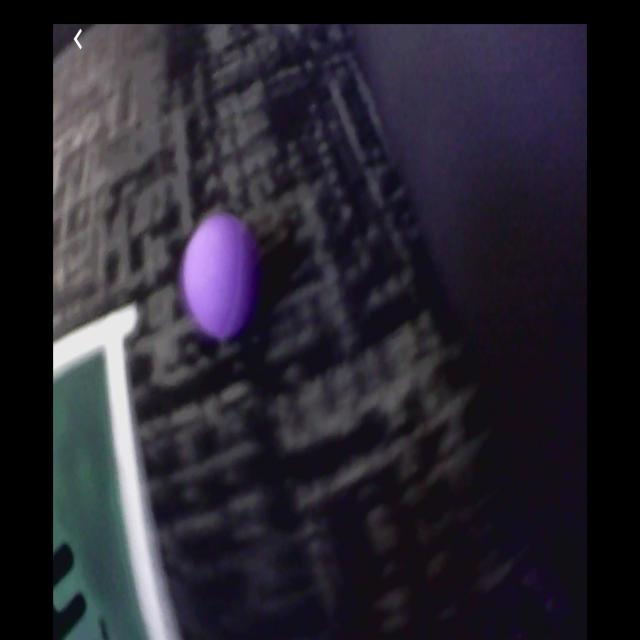ball: (182, 213, 265, 342)
